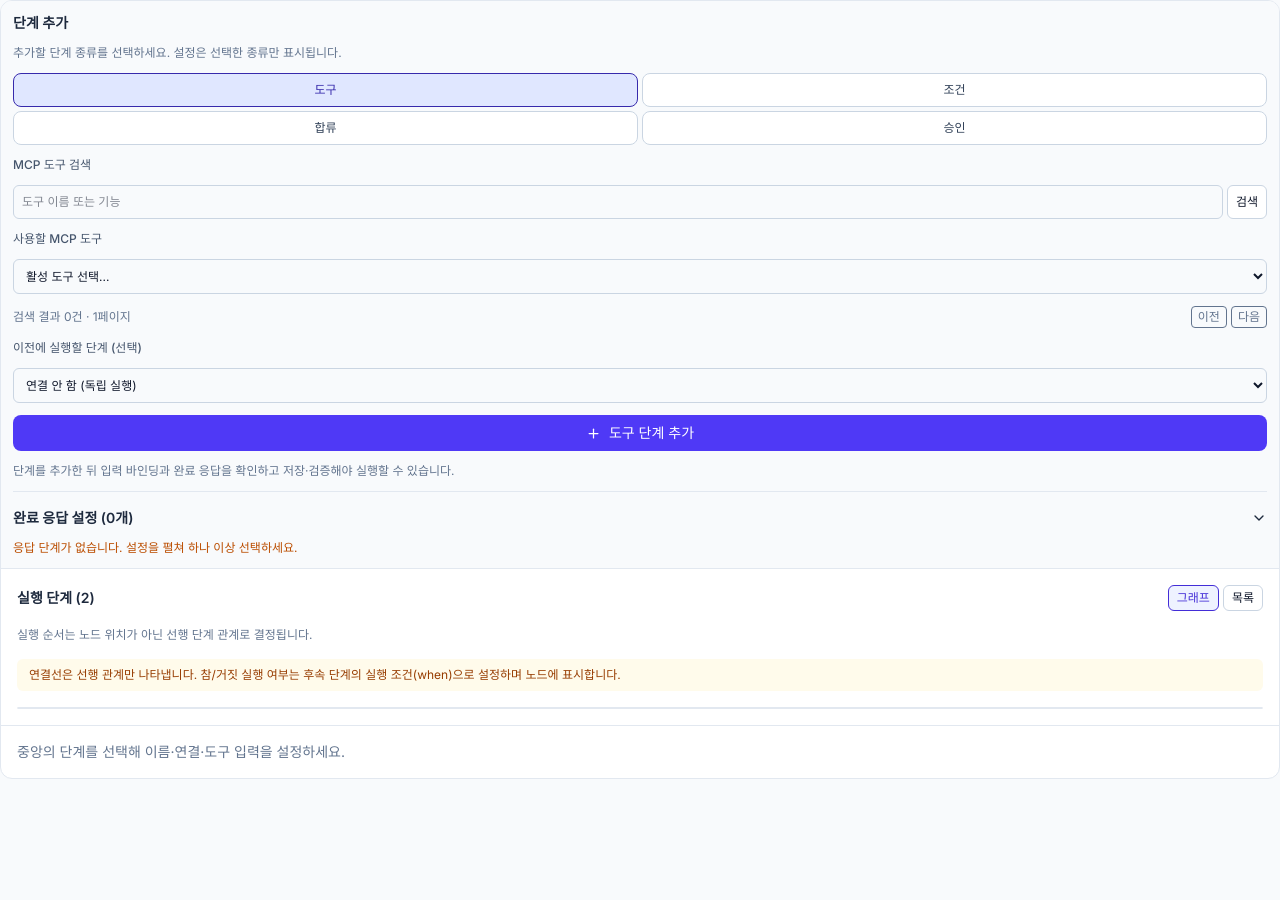
Test: Canonical visual workflow editor › shows existing branch details without allowing published-version edits
Step 1. Click the button "목록" → (1243, 598), box [1223, 585, 1263, 611]
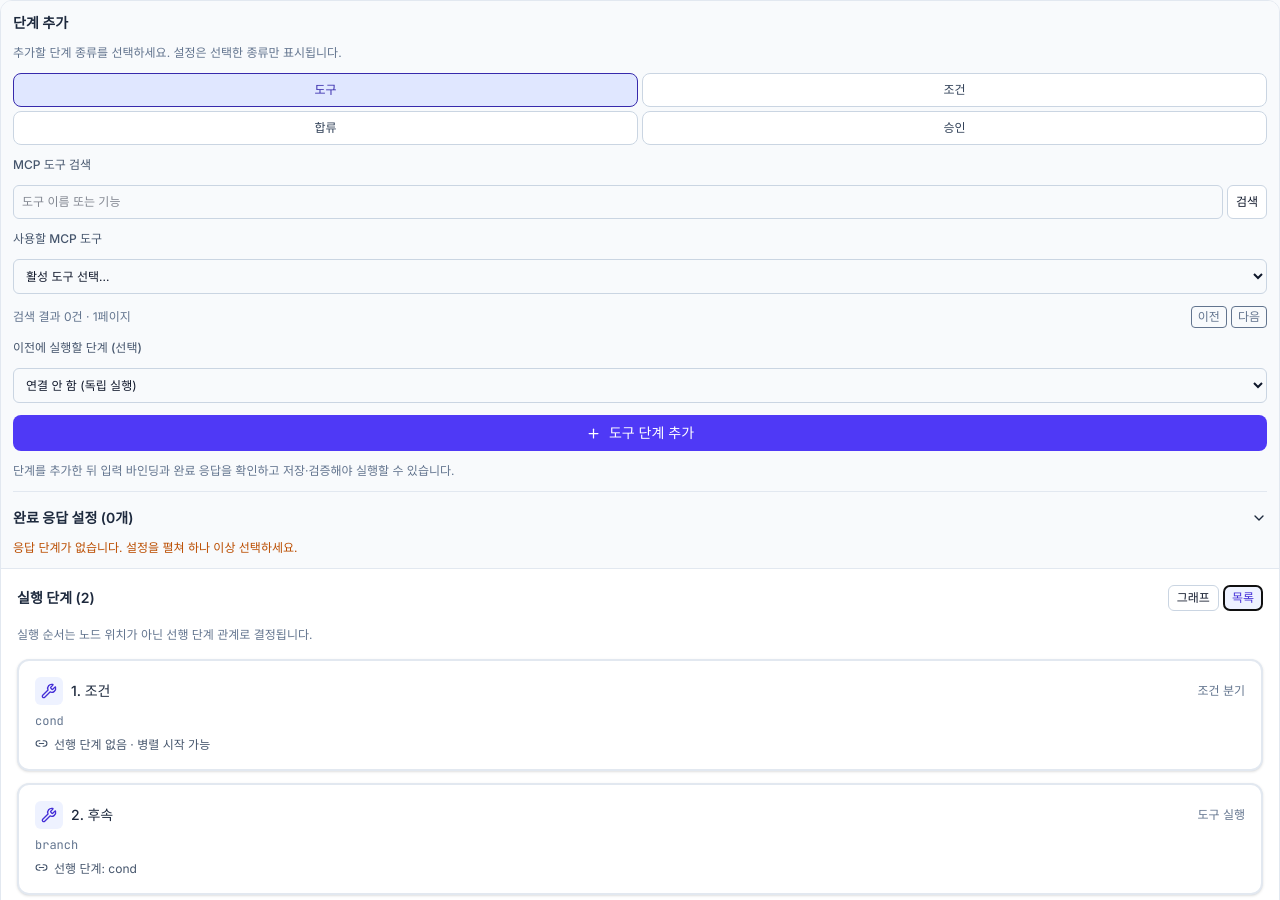
Step 2. Click the button with aria-label "후속 단계 선택" → (1221, 814), box [17, 783, 1263, 895]
(page scrolled)
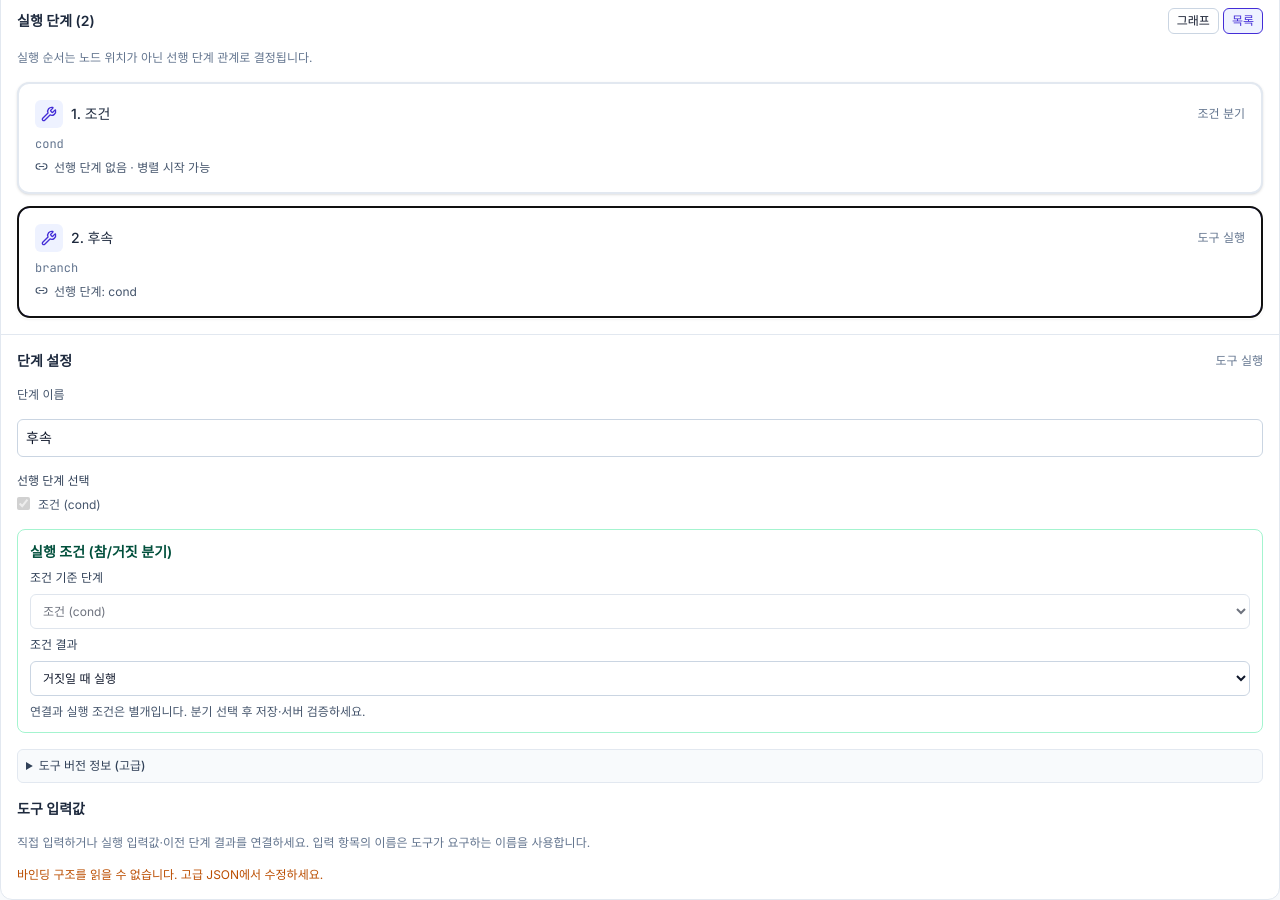
Expected: the dropdown labelled "조건 기준 단계" is disabled, [30, 594, 1250, 629]
Expected: the dropdown labelled "조건 결과" is disabled, [30, 661, 1250, 696]
